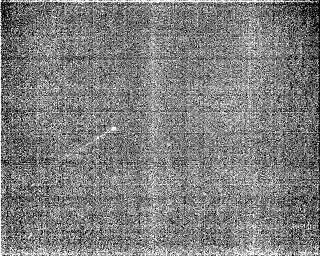AIRPLANE: (60, 126, 119, 164)
